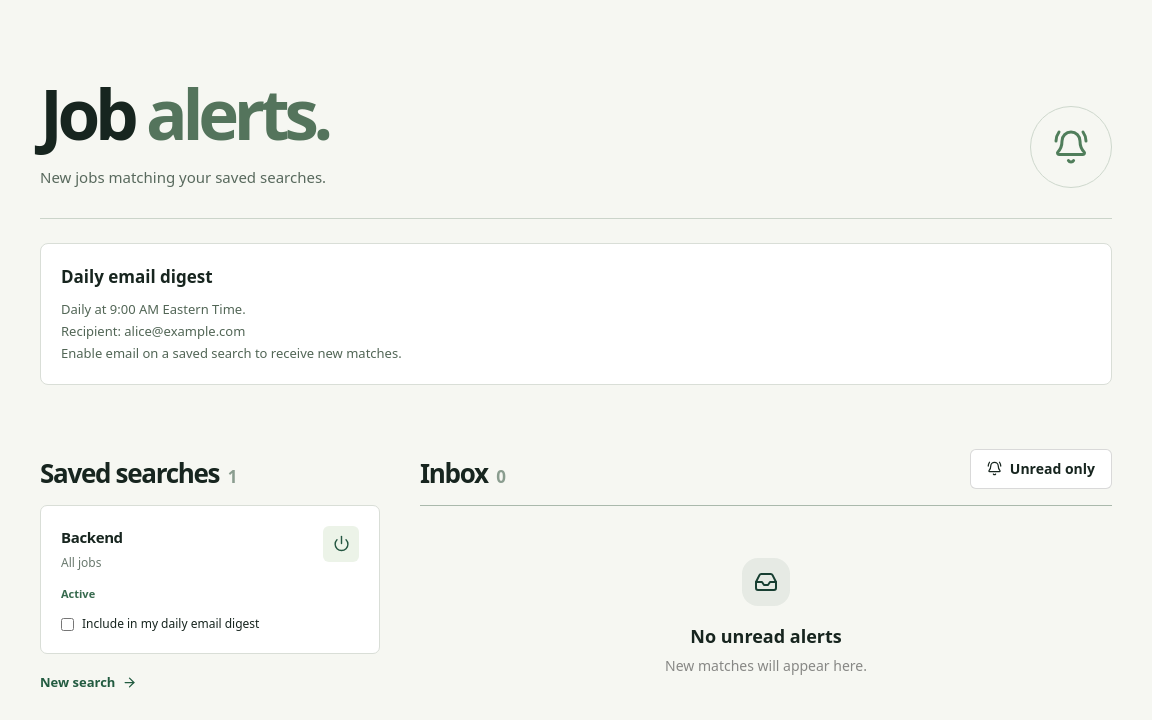
it: daily email digest preferences › persists opt-in and displays the fixed Eastern schedule
The width and height of the screenshot is (1152, 720).
expect the text "Daily at 9:00 AM Eastern Time." is shown: met, box [61,300,246,318]
expect the text "Recipient: alice@example.com" is shown: met, box [61,322,245,340]
Click the checkbox labelled "Include in my daily email digest": (68, 624) [61,618,74,631]
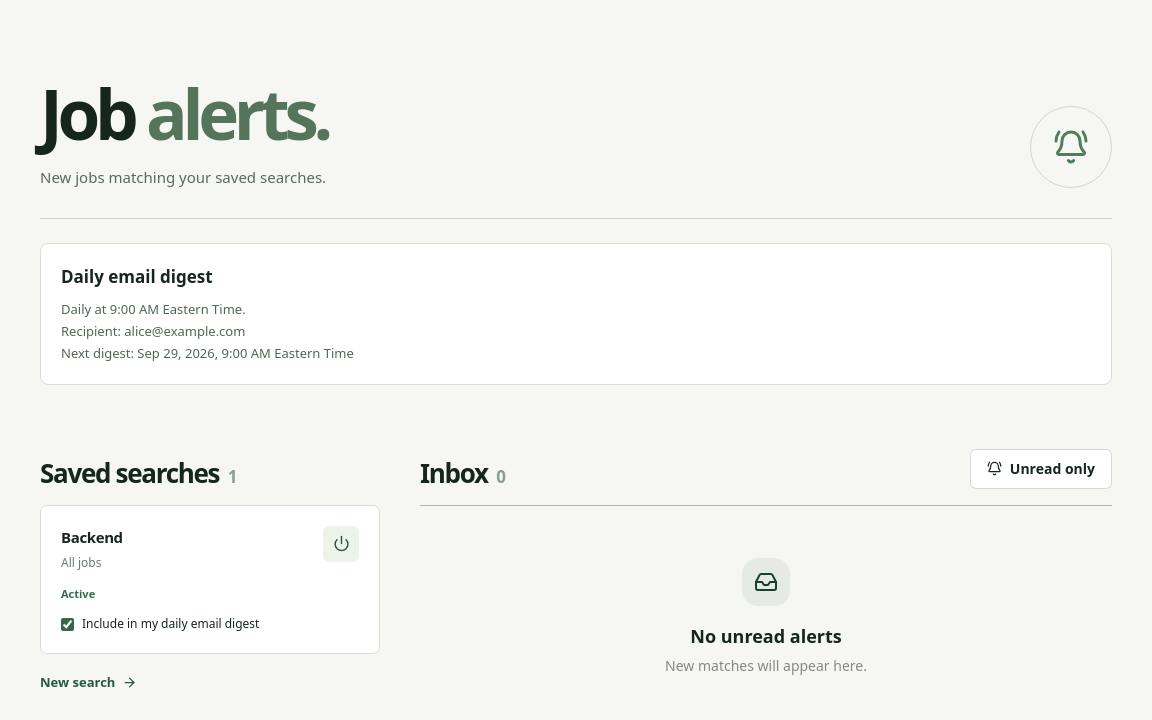
expect the checkbox labelled "Include in my daily email digest" is checked: met, box [61,618,74,631]
expect the text "Next digest: Sep 29, 2026, 9:00 AM Eastern Time" is shown: met, box [61,344,354,362]
